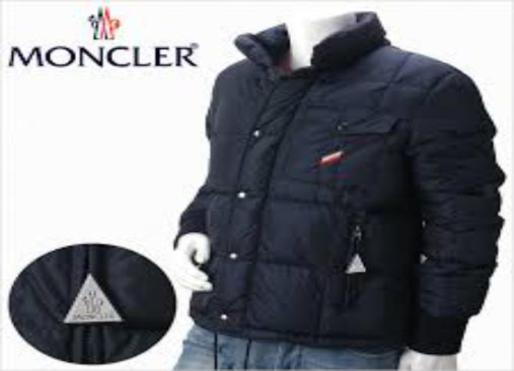MONCLER: (5, 42, 201, 69), (83, 5, 125, 41)
